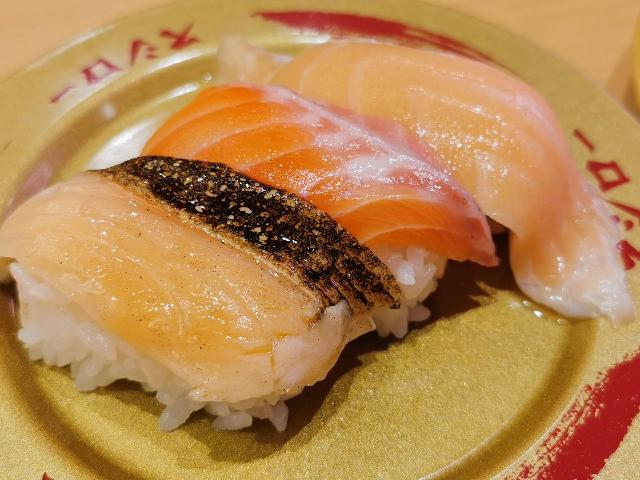jangold: (348, 332, 636, 480), (150, 3, 633, 62), (0, 400, 341, 480), (2, 5, 143, 156)
